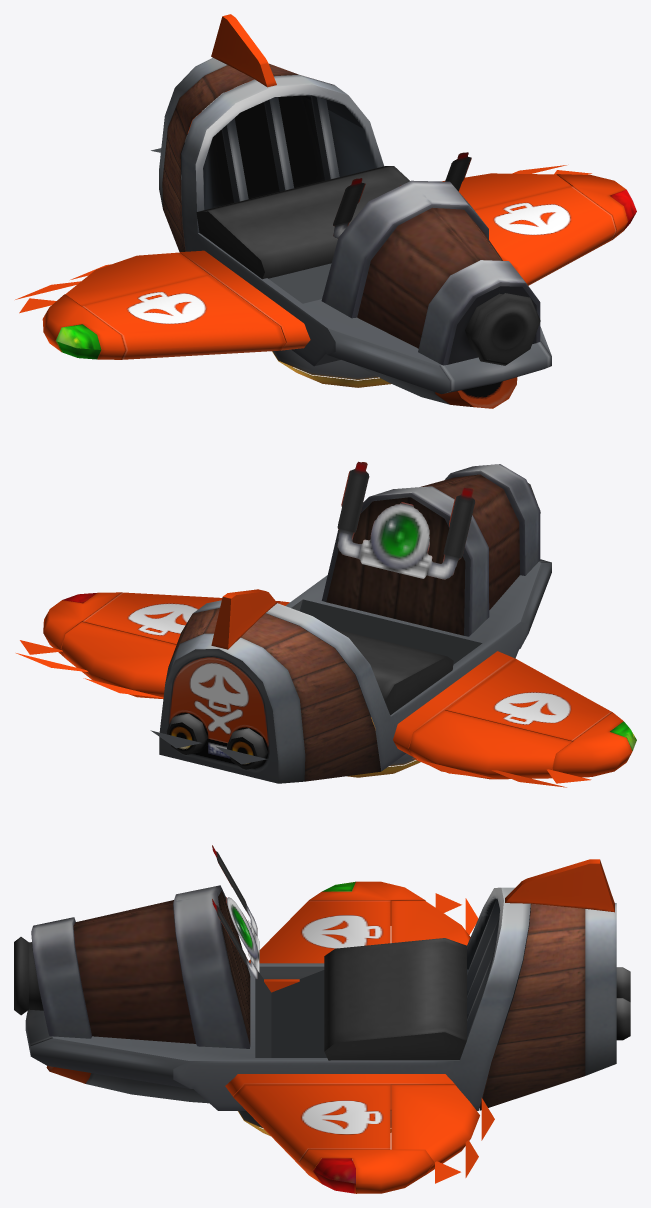
The model's file is boss_01.glb.
The picture shows the model from 3 angles, top to bottom: view 1: azimuth 30°, elevation 25°; view 2: azimuth 150°, elevation 25°; view 3: azimuth 270°, elevation 25°; orthographic projection. The views are drawn at different scales.
Parts seen in each view (by area): view 1: boss_01; view 2: boss_01; view 3: boss_01.
Part boxes in pixels (x1,y1,x2,y2): boss_01: (15,14,636,408); boss_01: (16,461,636,787); boss_01: (14,845,630,1193).
Bounding box in the file's own units: 2.26 × 0.9269 × 2.04.
4 materials, 4 textured.
